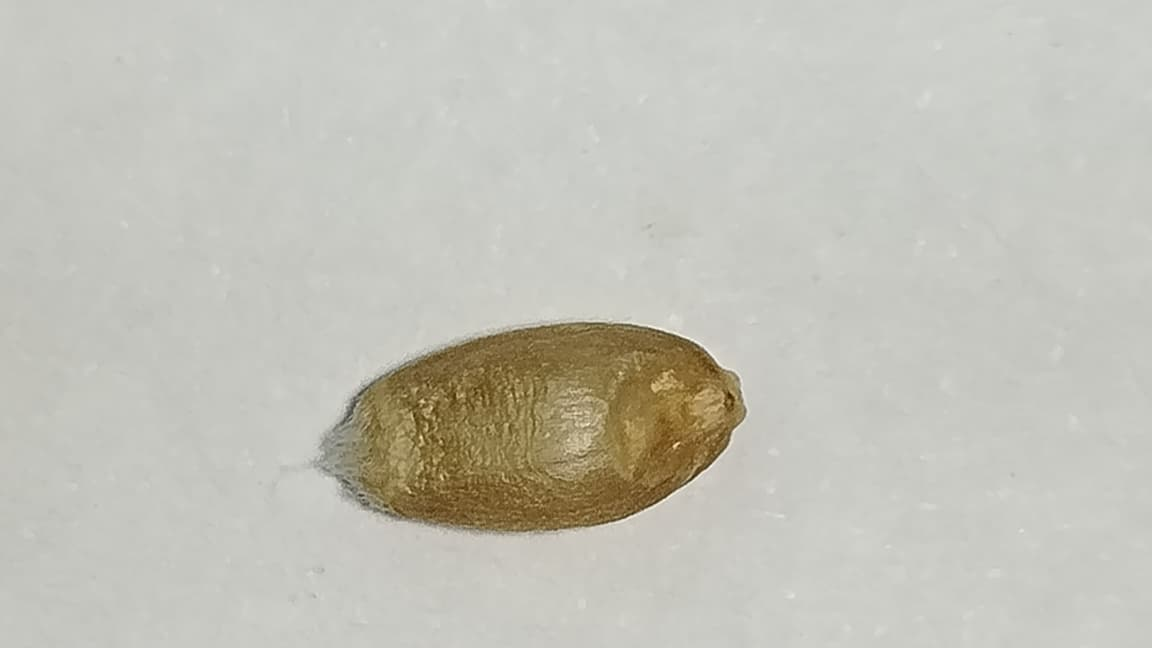healthy: (342, 324, 745, 530)
